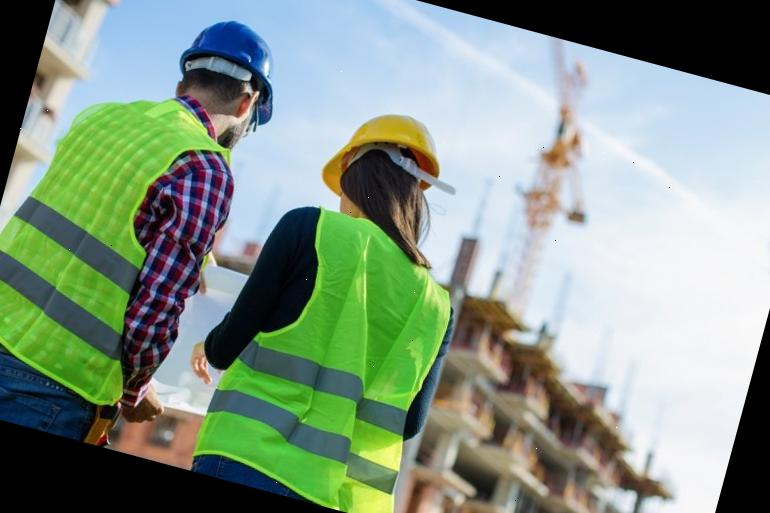helmet: (313, 94, 451, 225), (166, 8, 296, 129)
wear: (186, 188, 473, 513), (0, 71, 248, 417)
